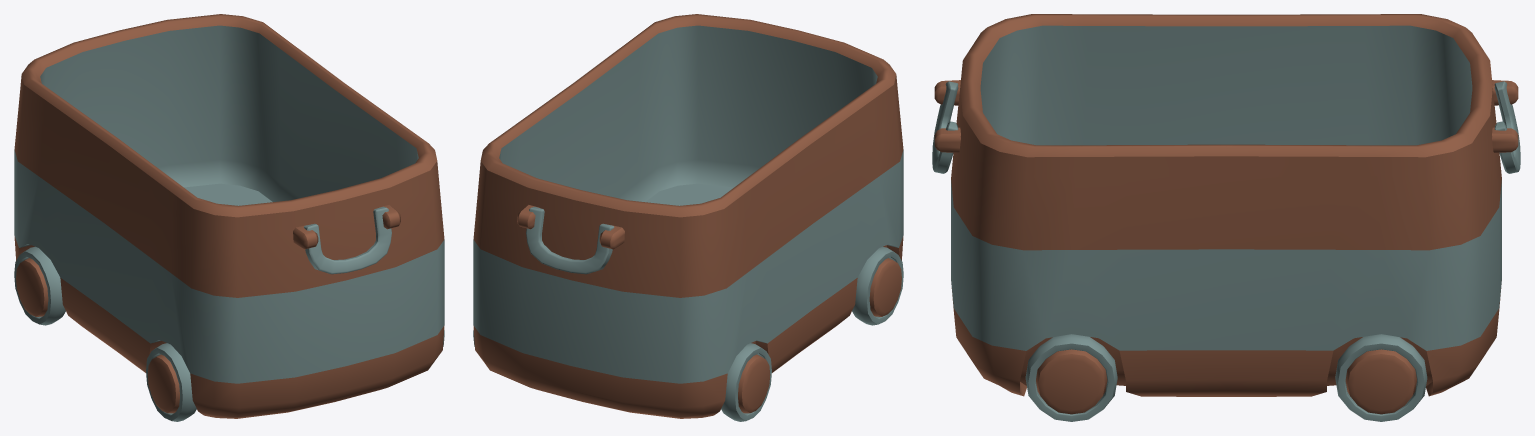
Rendered from ToyBin.fbx.
3 renders of one model, left to right at view 1: azimuth 30°, elevation 25°; view 2: azimuth 150°, elevation 25°; view 3: azimuth 270°, elevation 25°, orthographic. The views are drawn at different scales.
Visible parts, largest first — view 1: ToyBinBase; view 2: ToyBinBase; view 3: ToyBinBase.
Part boxes in pixels (x1,y1,x2,y2): ToyBinBase: (14, 14, 444, 421); ToyBinBase: (473, 14, 903, 421); ToyBinBase: (932, 14, 1520, 421).
Bounding box in the file's own units: 1.09 × 0.8741 × 1.74.
